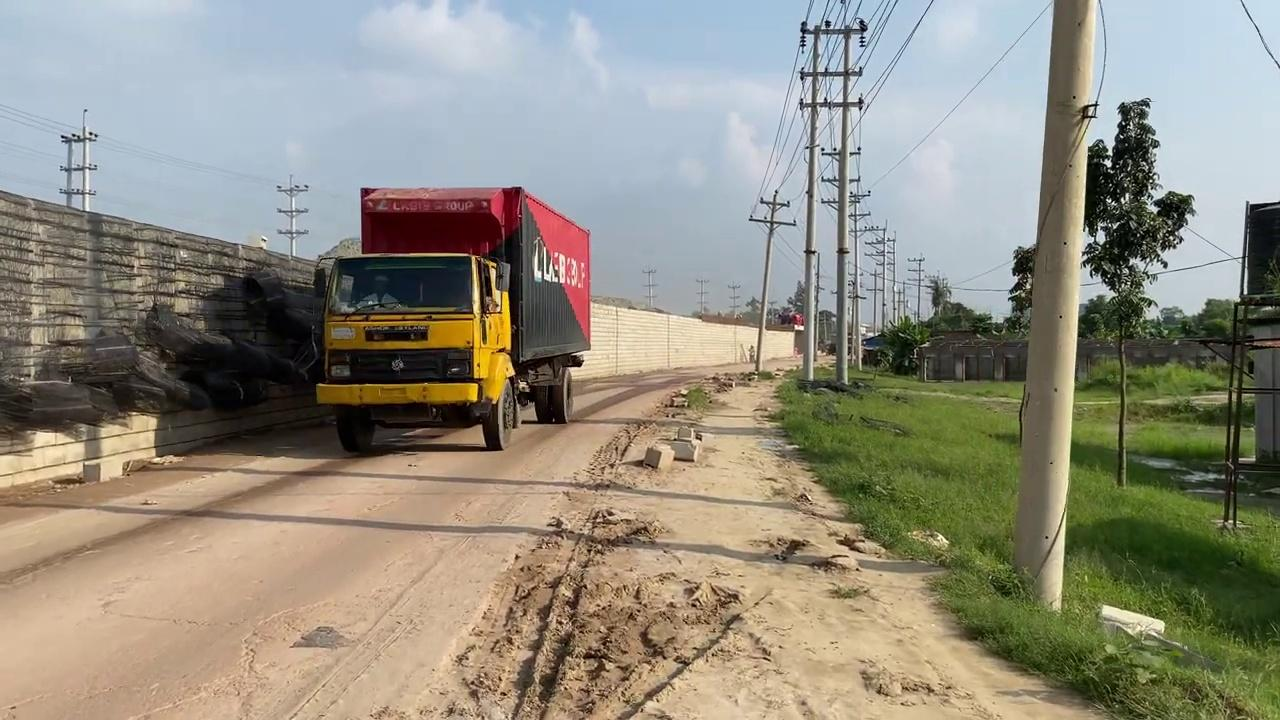Garbage: (1, 272, 322, 431)
Muddy road: (1, 358, 1110, 718)
Pole: (1011, 0, 1097, 612), (831, 18, 866, 384), (798, 21, 826, 381)
Sidewalk: (1127, 450, 1279, 516)
Traffic-sign: (1008, 95, 1197, 487)
Tree: (312, 184, 591, 453)
